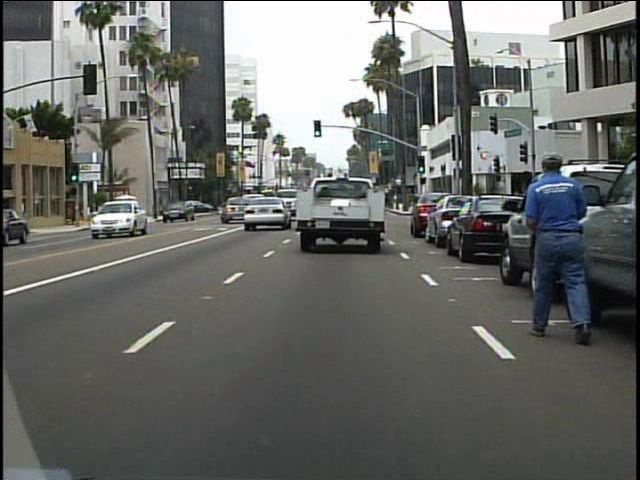person: (511, 144, 598, 349)
